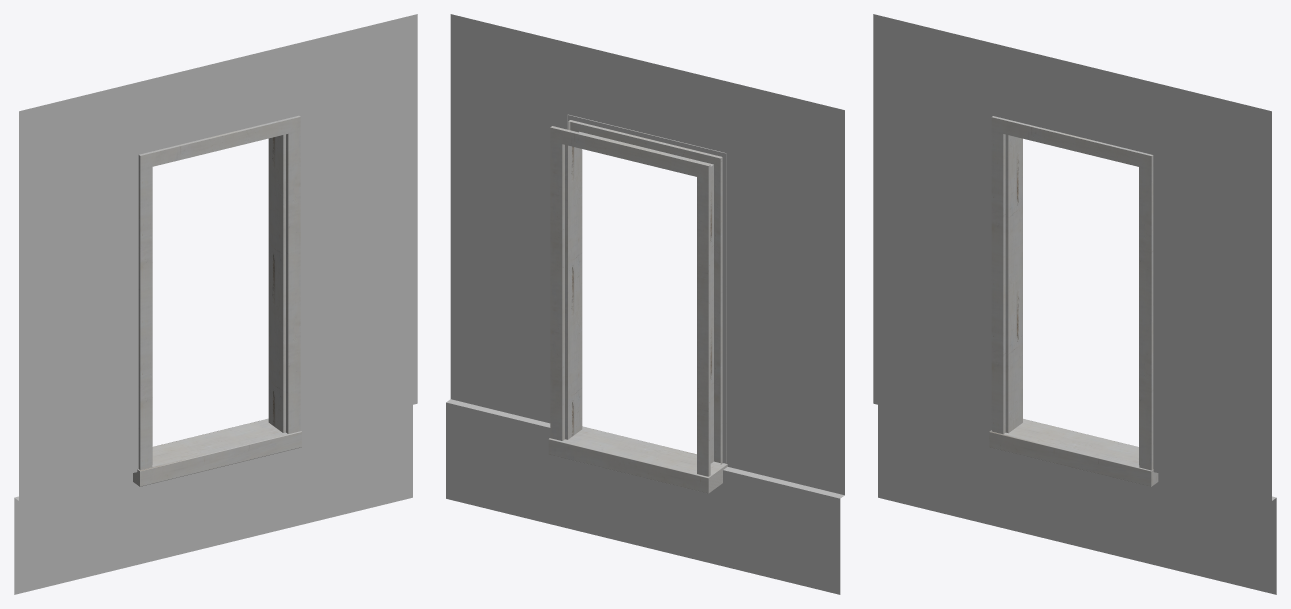
File: Wall_Door_Single_A_3x.FBX
The picture shows the model from 3 angles, left to right: view 1: azimuth 30°, elevation 25°; view 2: azimuth 150°, elevation 25°; view 3: azimuth 330°, elevation 25°; orthographic projection.
Parts seen in each view (by area): view 1: Wall_Door_Single_A_3x; view 2: Wall_Door_Single_A_3x; view 3: Wall_Door_Single_A_3x.
Boxes of the visible parts, x1=… form: Wall_Door_Single_A_3x: x1=14, y1=14, x2=417, y2=594; Wall_Door_Single_A_3x: x1=446, y1=14, x2=844, y2=594; Wall_Door_Single_A_3x: x1=873, y1=14, x2=1276, y2=594.
Size of the model in its own units: 300 by 350 by 28.33.
